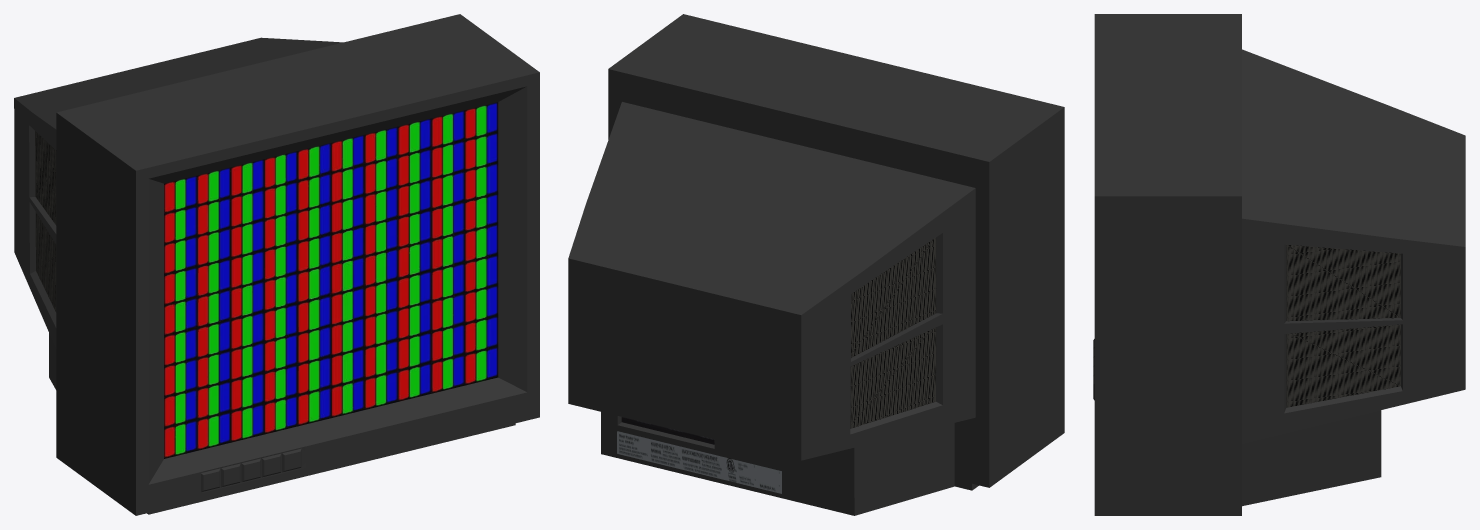
File: OldSchoolTV.fbx
3 renders of one model, left to right at view 1: azimuth 30°, elevation 25°; view 2: azimuth 150°, elevation 25°; view 3: azimuth 270°, elevation 25°, orthographic. The views are drawn at different scales.
Visible parts, largest first — view 1: Cube; view 2: Cube; view 3: Cube.
Boxes of the visible parts, box(x1,y1,x2,y2) form: Cube: box(14, 14, 539, 515); Cube: box(568, 14, 1064, 515); Cube: box(1093, 14, 1465, 515).
Bounding box in the file's own units: 200 × 167 × 173.
